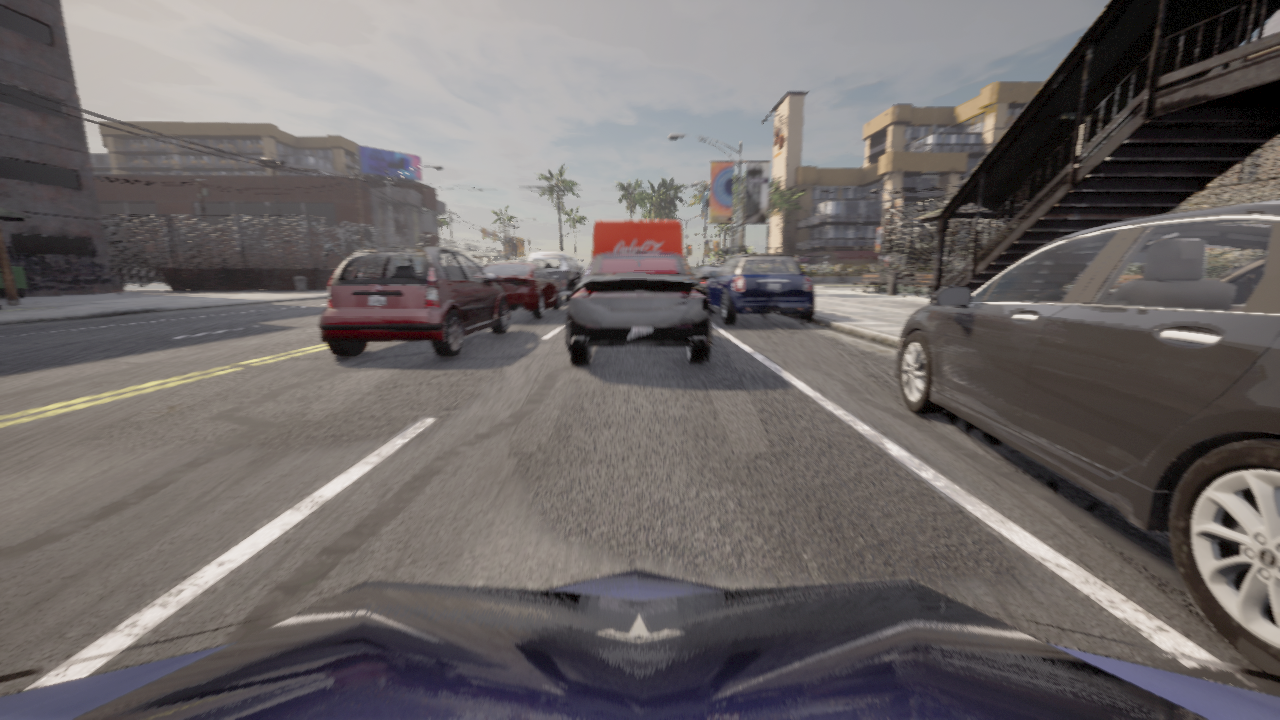cyclist: (0, 569, 1279, 719), (894, 200, 1279, 674), (319, 247, 510, 357), (565, 252, 711, 364), (704, 253, 814, 323), (483, 261, 560, 318), (592, 220, 683, 257), (527, 252, 583, 303), (692, 265, 722, 288), (160, 277, 168, 284)
